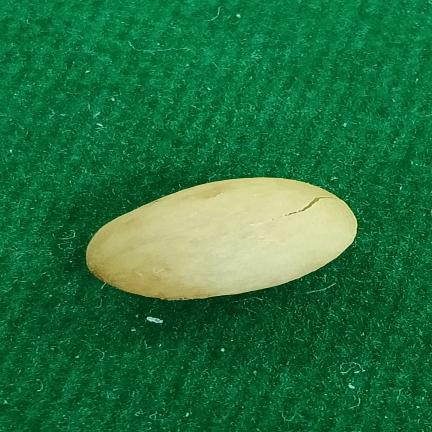parchment: (86, 177, 357, 300)
